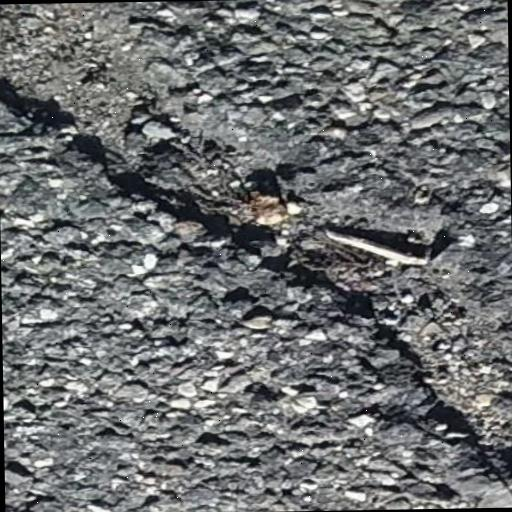spalling: (0, 4, 512, 489)
